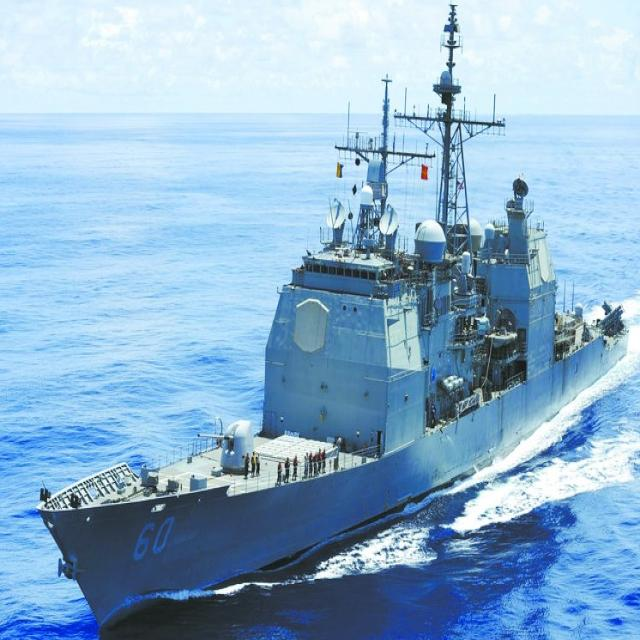navalvessels: (30, 34, 636, 638)
